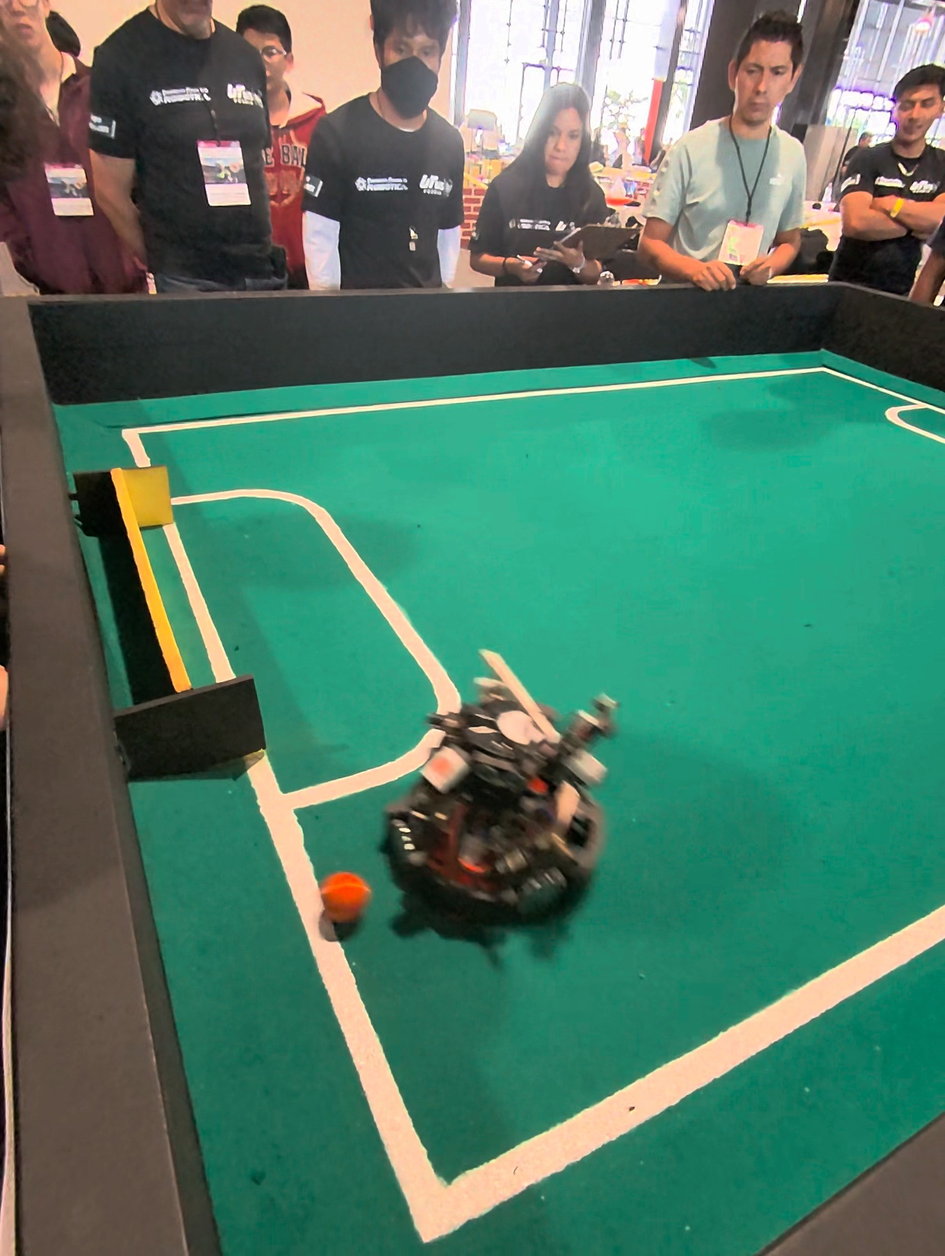Robot: (384, 646, 624, 954)
pelota: (326, 875, 375, 930)
